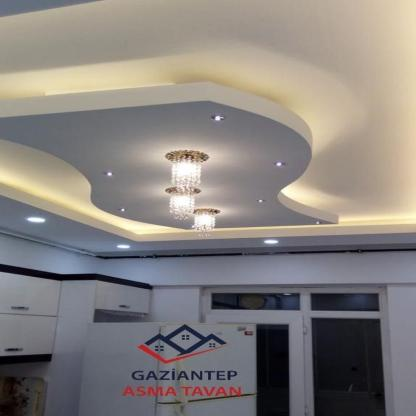Gypsum Board: (0, 0, 416, 242)
